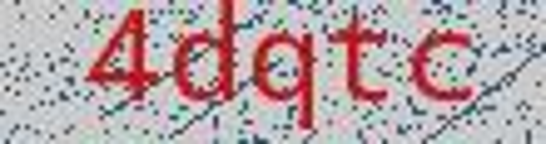4: (81, 2, 162, 126)
c: (406, 21, 488, 114)
d: (167, 1, 237, 116)
q: (247, 24, 325, 139)
t: (325, 2, 390, 118)
